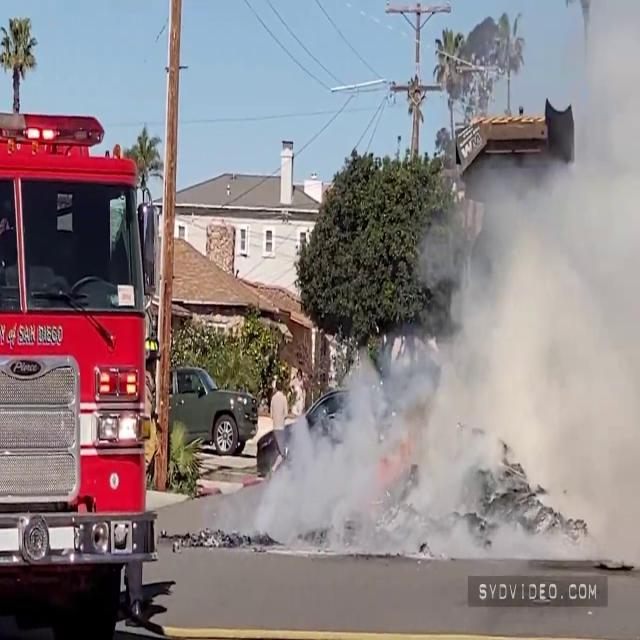Smoke: (271, 161, 640, 563)
